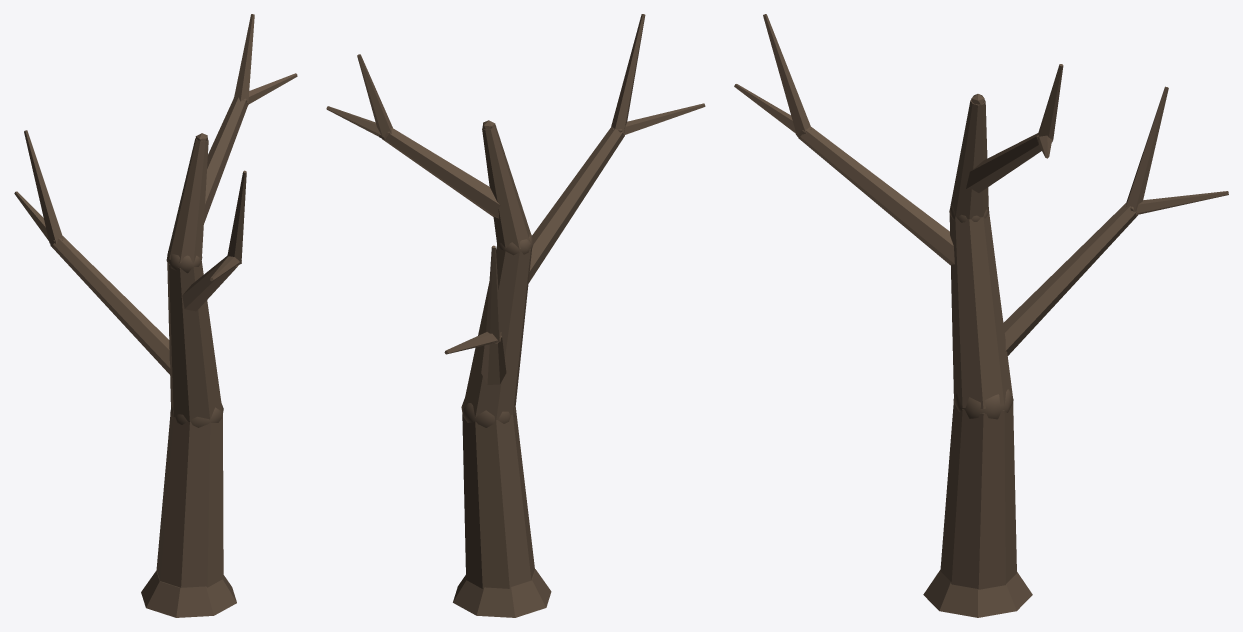
Rendered from p_tree_dead_2.glb.
The picture shows the model from 3 angles, left to right: view 1: azimuth 30°, elevation 25°; view 2: azimuth 150°, elevation 25°; view 3: azimuth 270°, elevation 25°; orthographic projection. The views are drawn at different scales.
Visible parts, largest first — view 1: body; view 2: body; view 3: body.
Boxes of the visible parts, x1,y1,x2,y2 form: body: (14, 14, 297, 617); body: (326, 14, 705, 617); body: (734, 14, 1228, 617).
Size of the model in its own units: 2.64 by 5.91 by 4.51.
